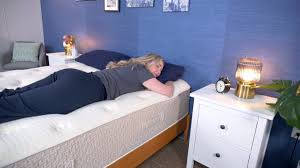bed-matress: (1, 60, 192, 168)
